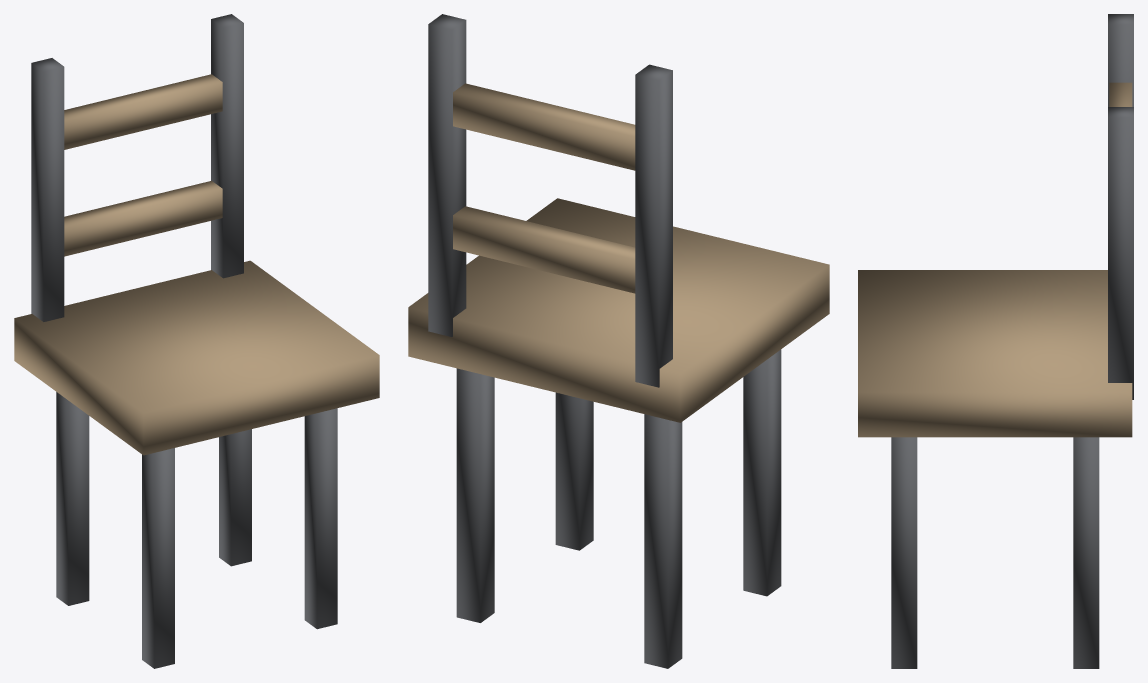
The model's file is dining_chair__compact.glb.
3 renders of one model, left to right at view 1: azimuth 30°, elevation 25°; view 2: azimuth 150°, elevation 25°; view 3: azimuth 270°, elevation 25°, orthographic. The views are drawn at different scales.
Parts seen in each view (by area): view 1: world; view 2: world; view 3: world.
Boxes of the visible parts, x1=… form: world: x1=14, y1=14, x2=379, y2=668; world: x1=408, y1=14, x2=829, y2=668; world: x1=858, y1=14, x2=1133, y2=668.
Bounding box in the file's own units: 0.4315 × 0.9153 × 0.4115.
